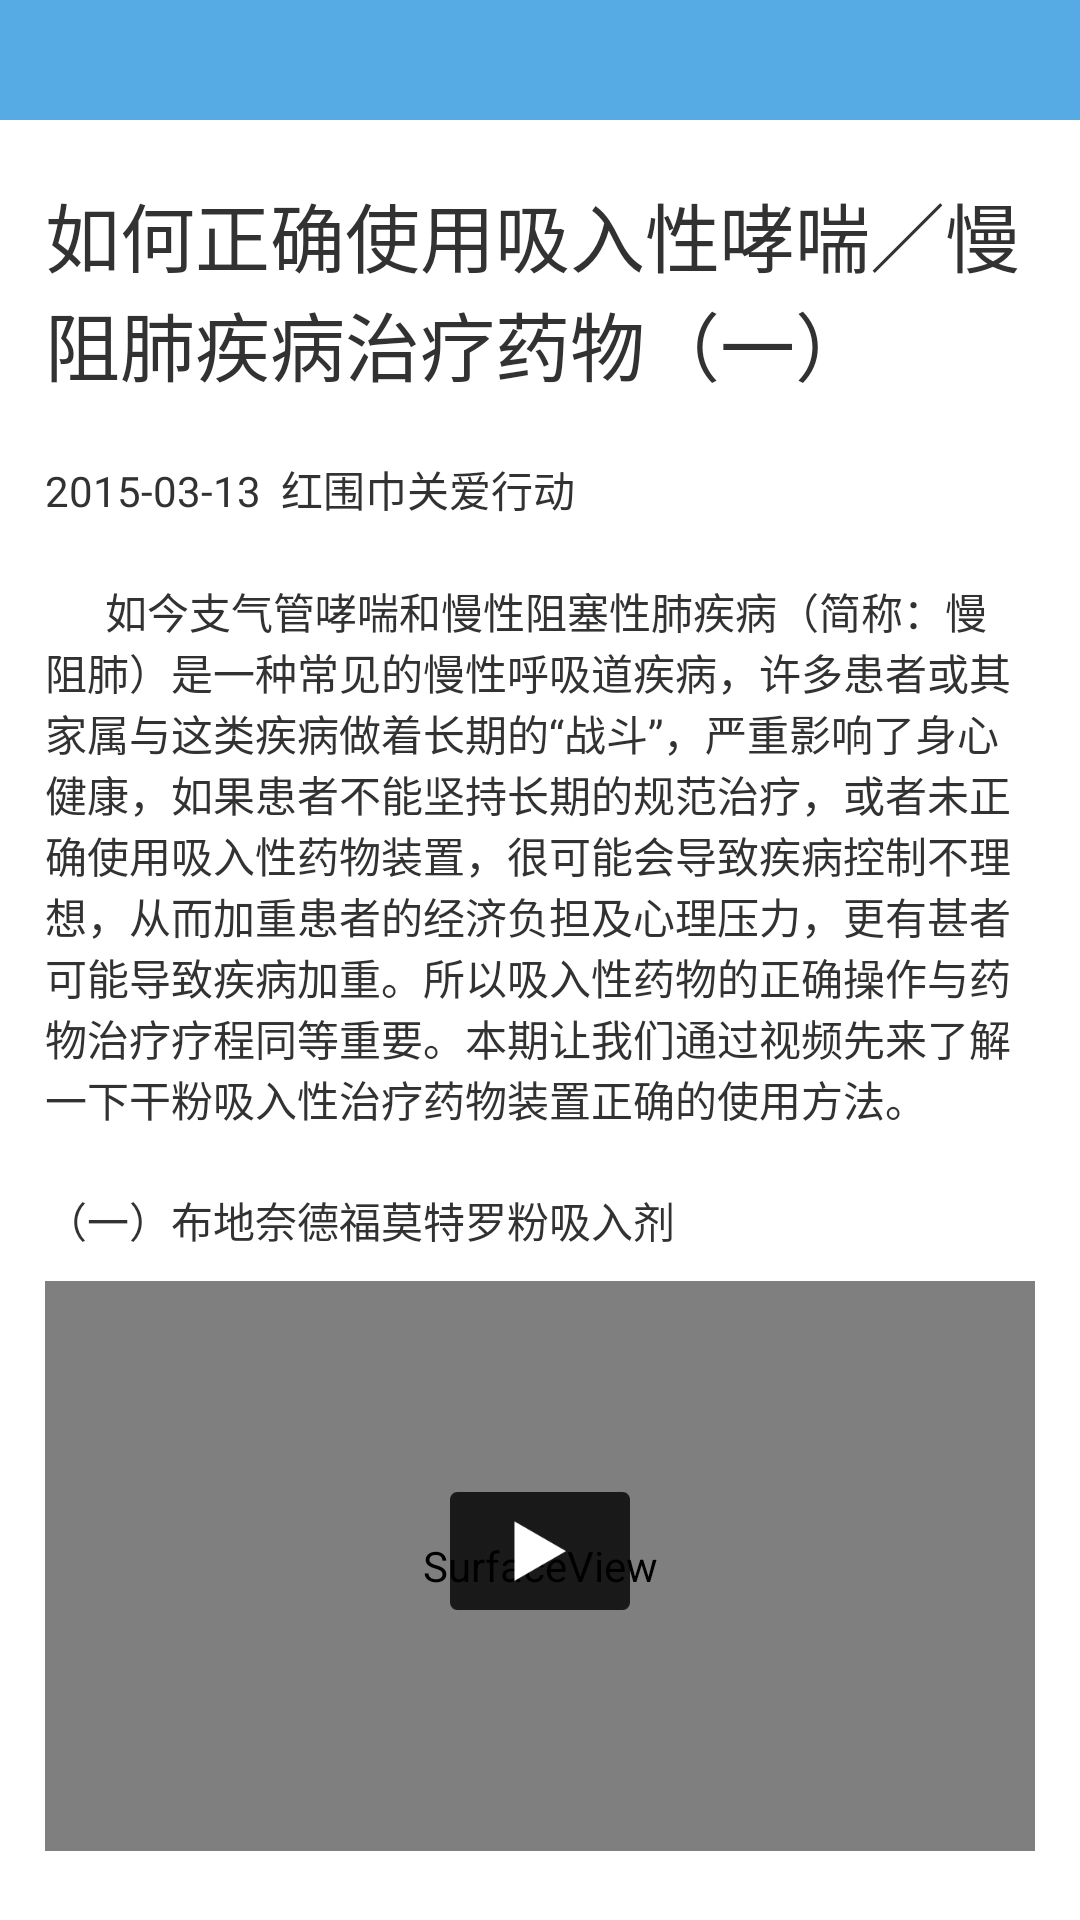

Screen size 1080x1920. Icon name, then its center in pixels as [x,y]:
vedio: [540,1551]
